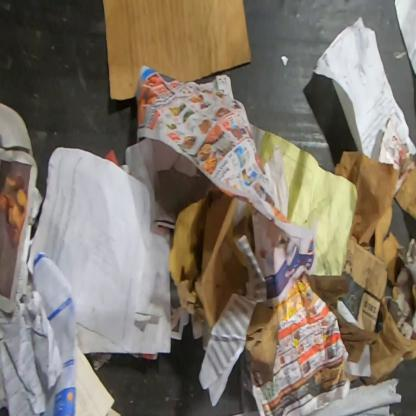cardboard: (102, 0, 252, 102), (168, 182, 255, 330), (307, 273, 415, 387), (334, 111, 415, 255), (341, 234, 389, 333), (245, 302, 278, 388), (373, 204, 405, 286)
